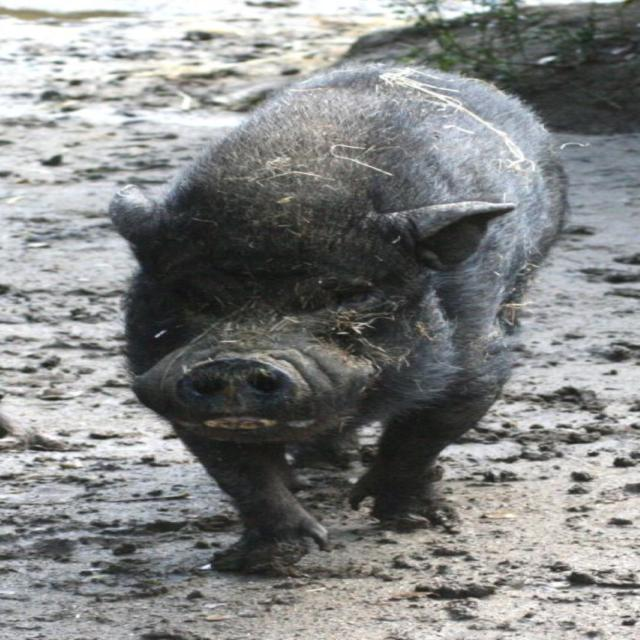pig: (107, 63, 570, 580)
